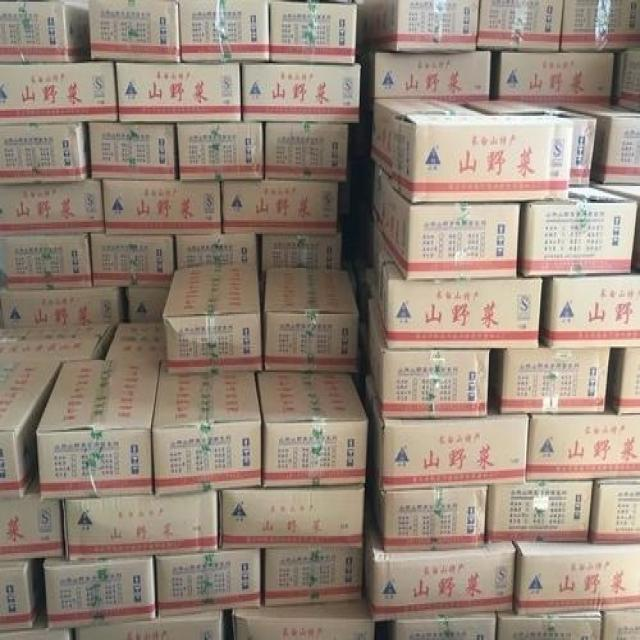box: (365, 374, 530, 490), (36, 358, 159, 500), (393, 113, 573, 203), (365, 527, 515, 621), (378, 263, 541, 348), (370, 302, 490, 416), (152, 372, 262, 495), (256, 370, 367, 488), (384, 186, 520, 280), (462, 101, 596, 186), (161, 266, 262, 372), (61, 492, 218, 560), (521, 186, 637, 276), (219, 485, 365, 551), (264, 270, 358, 372), (513, 541, 640, 614), (370, 97, 483, 177), (0, 358, 60, 498), (44, 556, 155, 630), (526, 413, 640, 480), (116, 63, 241, 123), (543, 273, 640, 350), (500, 348, 611, 415), (0, 61, 116, 125), (242, 61, 360, 123), (375, 486, 486, 551), (156, 550, 261, 618), (485, 480, 594, 543), (104, 177, 220, 234), (558, 104, 640, 184), (372, 51, 492, 101), (221, 181, 338, 232), (499, 53, 614, 104), (264, 548, 364, 606), (0, 181, 104, 236), (90, 0, 180, 63), (179, 0, 269, 63), (0, 123, 92, 184), (0, 473, 64, 560), (0, 2, 90, 63), (270, 2, 357, 65), (233, 602, 375, 640), (0, 285, 124, 328), (379, 0, 480, 51), (88, 123, 177, 179), (177, 123, 264, 179), (265, 123, 348, 181), (0, 234, 91, 285), (74, 609, 223, 640), (90, 234, 174, 288), (477, 0, 563, 51), (0, 326, 116, 360), (561, 0, 640, 49), (589, 480, 640, 543), (498, 609, 600, 640), (261, 232, 342, 271), (175, 232, 257, 270), (0, 560, 40, 630), (394, 616, 499, 640), (106, 323, 166, 360), (608, 346, 640, 413), (617, 48, 640, 113), (128, 288, 170, 323), (603, 606, 640, 640), (0, 630, 70, 640)
